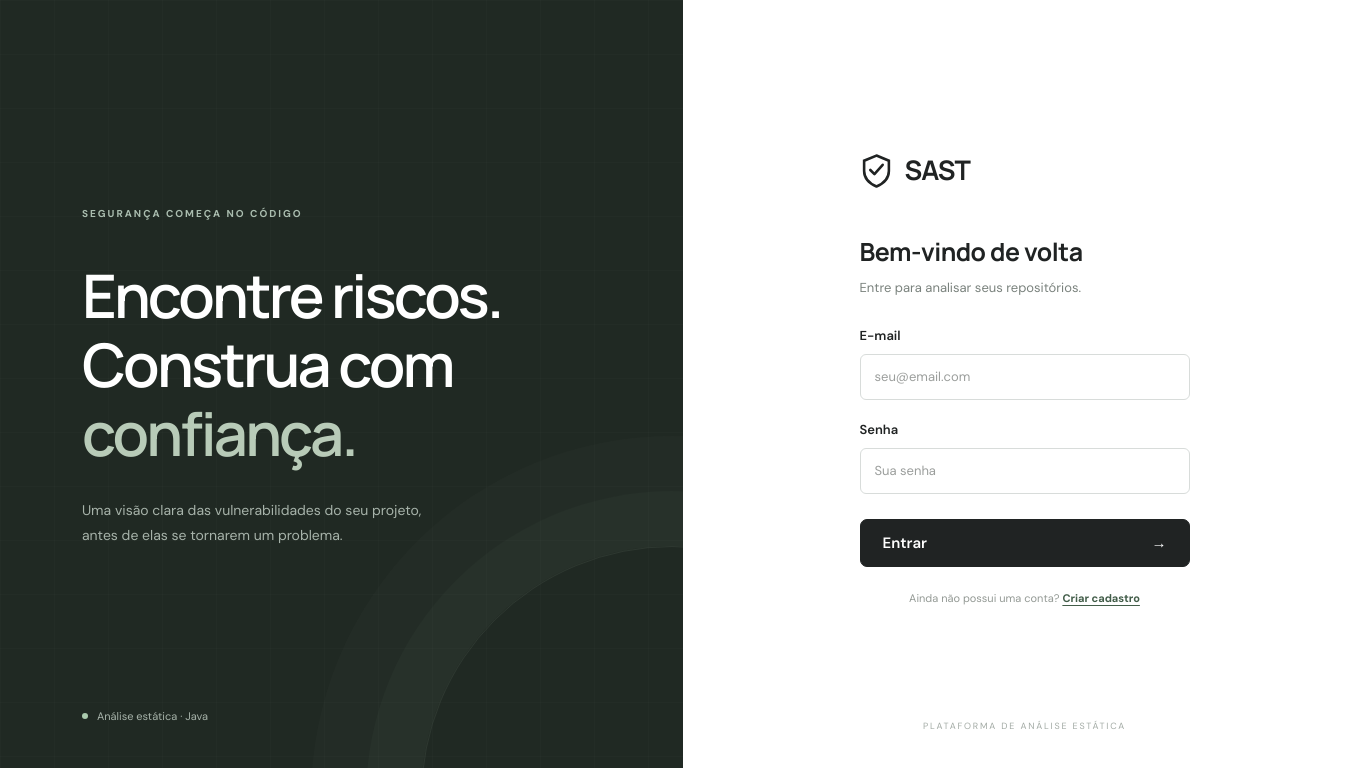
fluxo autenticado da análise › protege rotas e realiza login sem armazenar senha
The width and height of the screenshot is (1366, 768).
Type "test@example.com" into the field labelled "E-mail". click: (1024,377)
box: [860,354,1190,400]
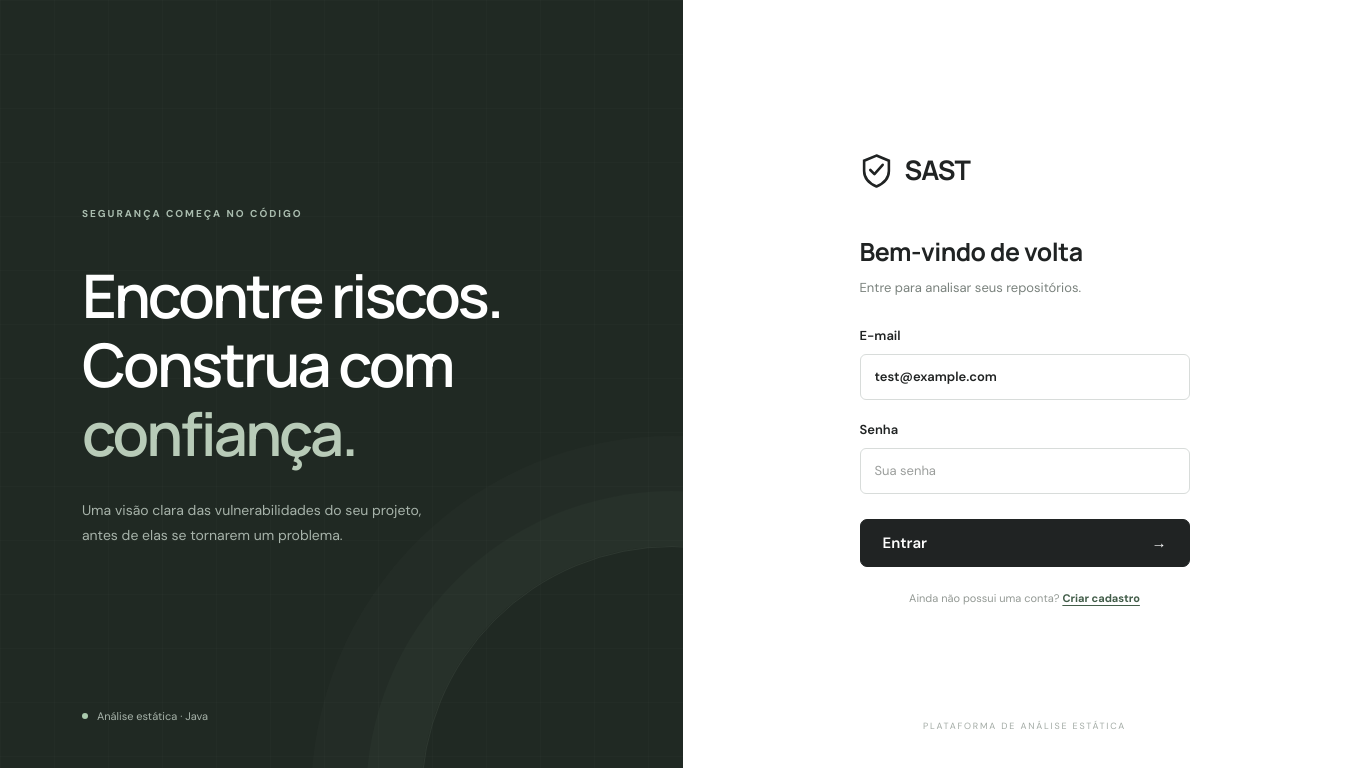
Type "test-password" into the password field labelled "Senha". click: (1024,471)
box: [860,448,1190,494]
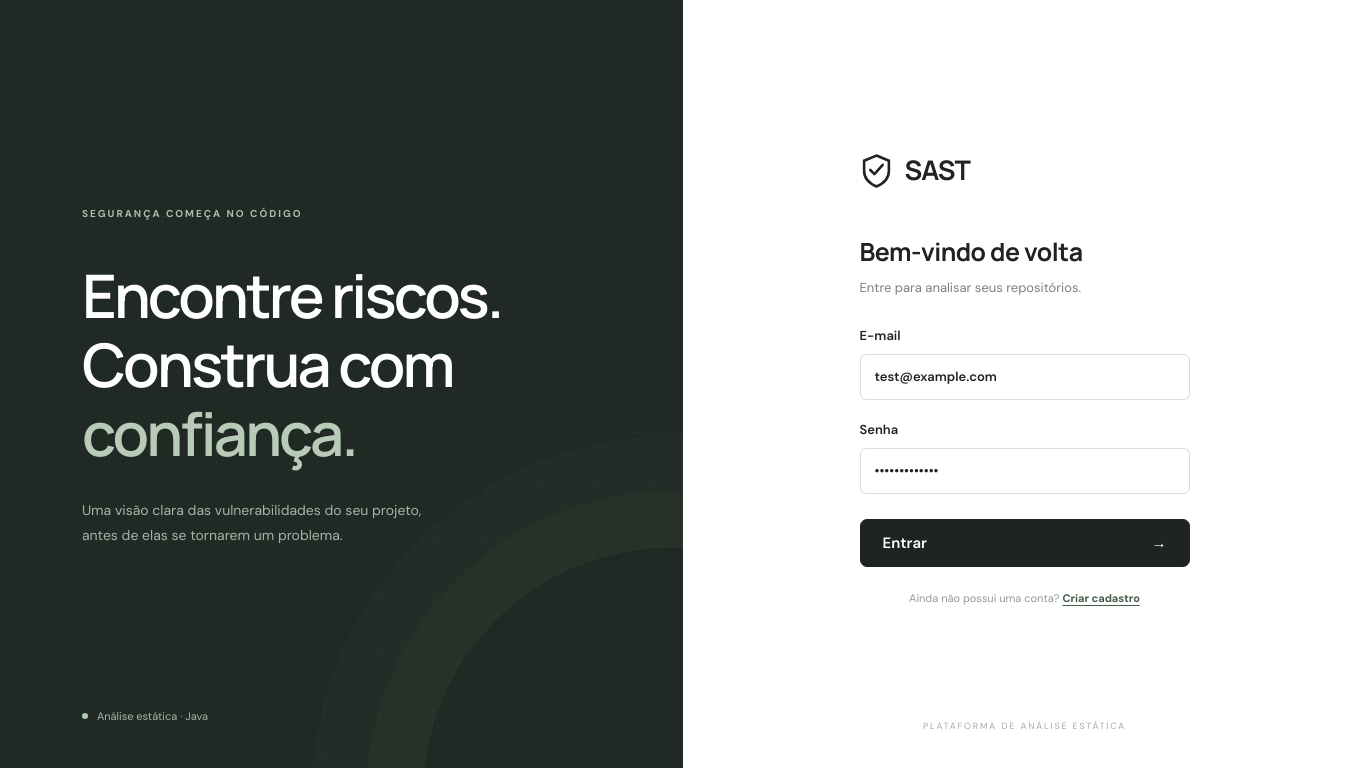
Click the button "Entrar →". click: (905,543)
box: [860,519,1190,567]
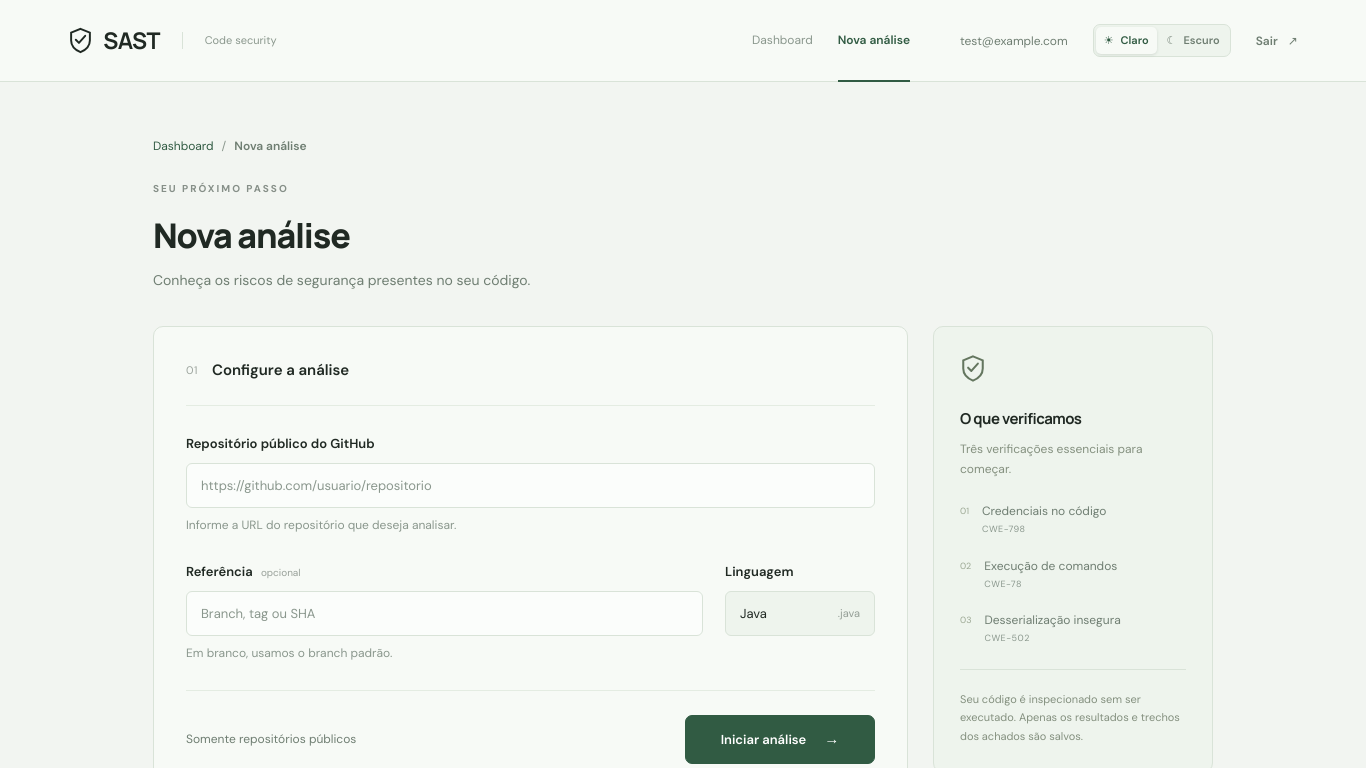
Expected: the heading "Nova análise" is shown, [153,212,350,258]
